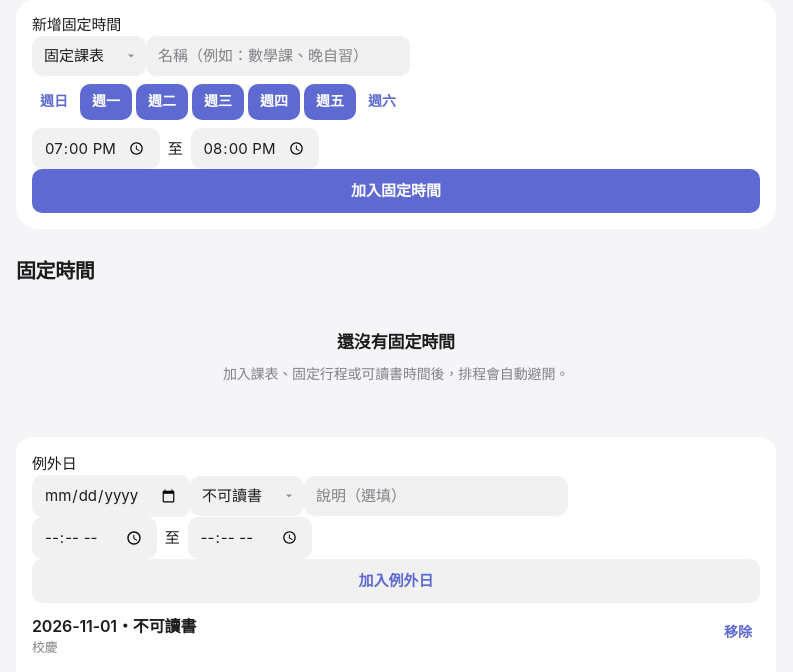
Scenario: 例外日移除失敗復原 › DELETE 已提交但回應遺失時讀回確認且不重送
This screenshot has width=793, height=672.
(page scrolled)
Check: the text "校慶" is shown, box x1=32 y1=639 x2=58 y2=655
Click the button "移除" at [738, 633], box x1=716 y1=615 x2=760 y2=651
(page scrolled)
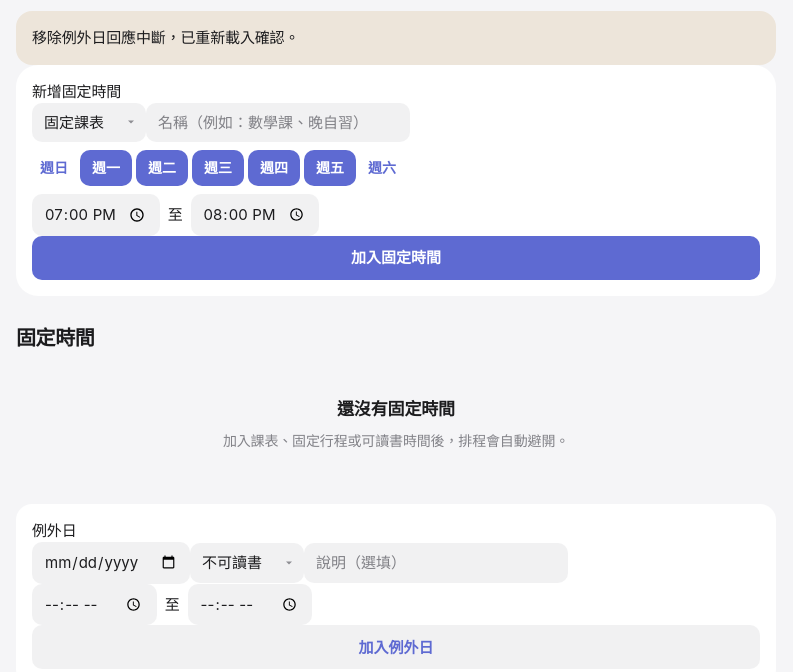
Check: the message shows "已重新載入確認", box x1=32 y1=28 x2=299 y2=47
Check: the text "校慶" is gone
